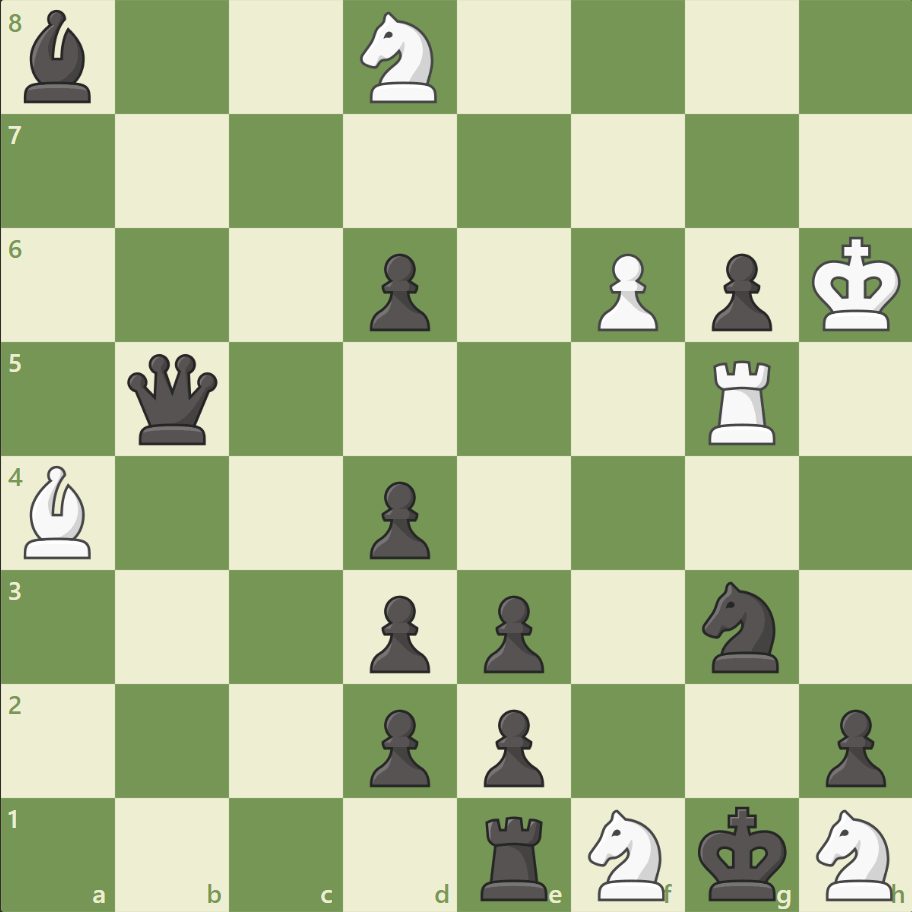B: (17, 460, 101, 563)
K: (806, 231, 906, 339)
N: (351, 7, 449, 110), (579, 802, 676, 904), (806, 802, 903, 904)
P: (588, 246, 662, 337)
R: (700, 352, 783, 449)
b: (17, 6, 101, 109)
k: (692, 798, 792, 906)
n: (692, 575, 789, 677)
p: (701, 246, 776, 337), (474, 586, 549, 677), (474, 700, 549, 791), (361, 246, 435, 337), (361, 473, 435, 564), (361, 586, 435, 677), (361, 700, 435, 791), (815, 700, 889, 791)
q: (124, 349, 223, 449)
r: (473, 806, 556, 904)
